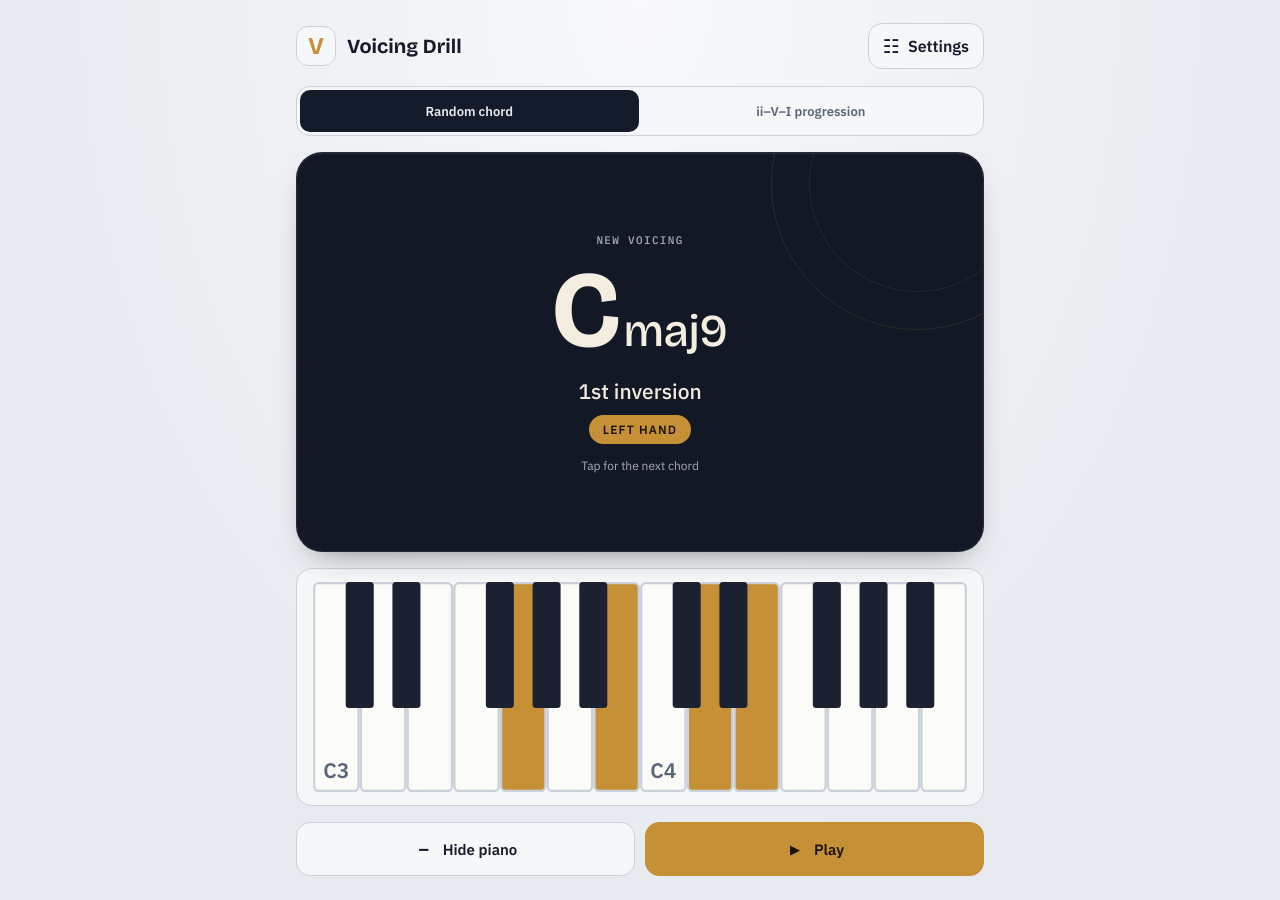
Test: PracticeScreen › defaults the dominant V chord to flat 9 flat 13 when switching to minor
Click the button "ii–V–I progression".
click(811, 111)  # box [642,90,980,132]
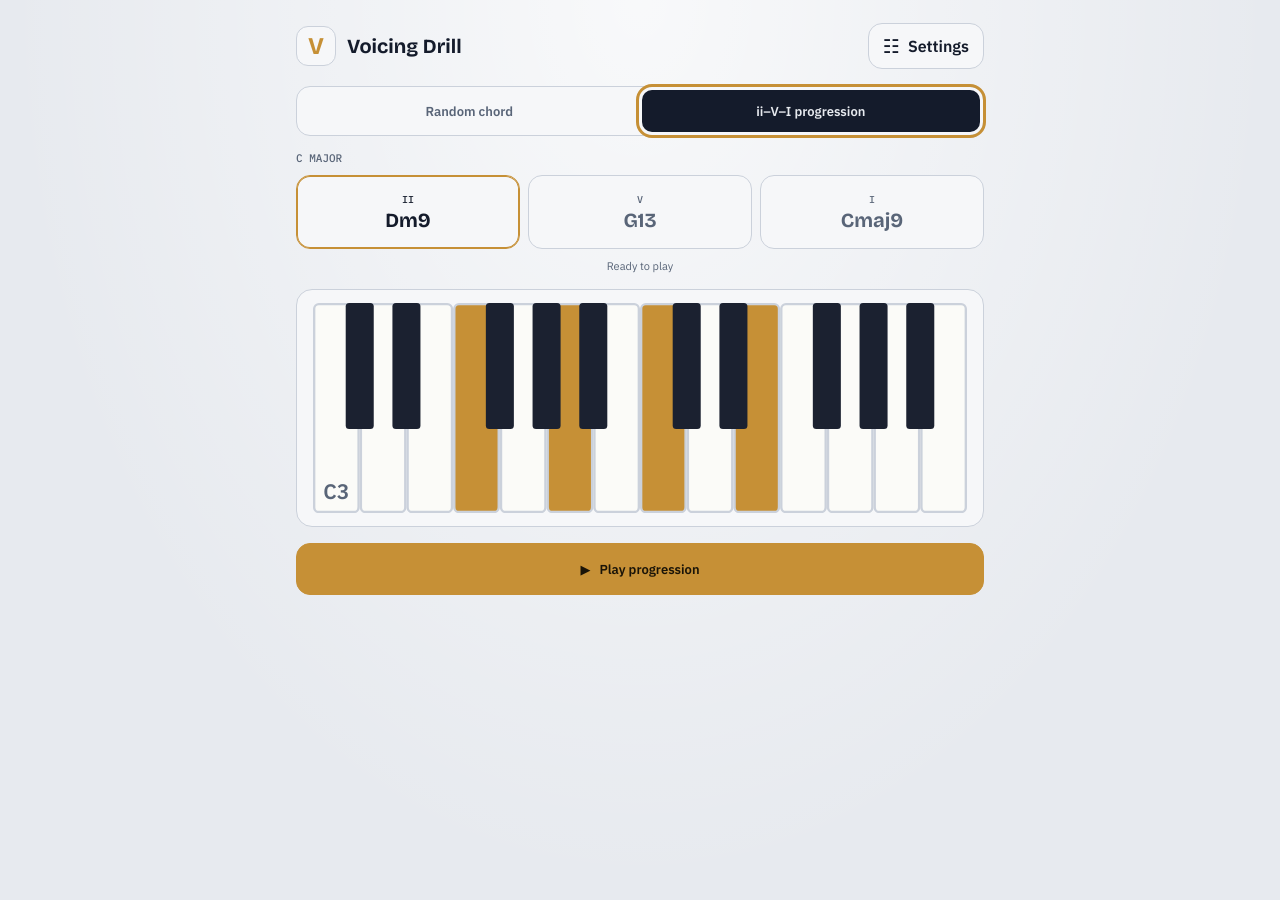
Click the button "☷ Settings".
click(926, 46)  # box [868,23,984,69]
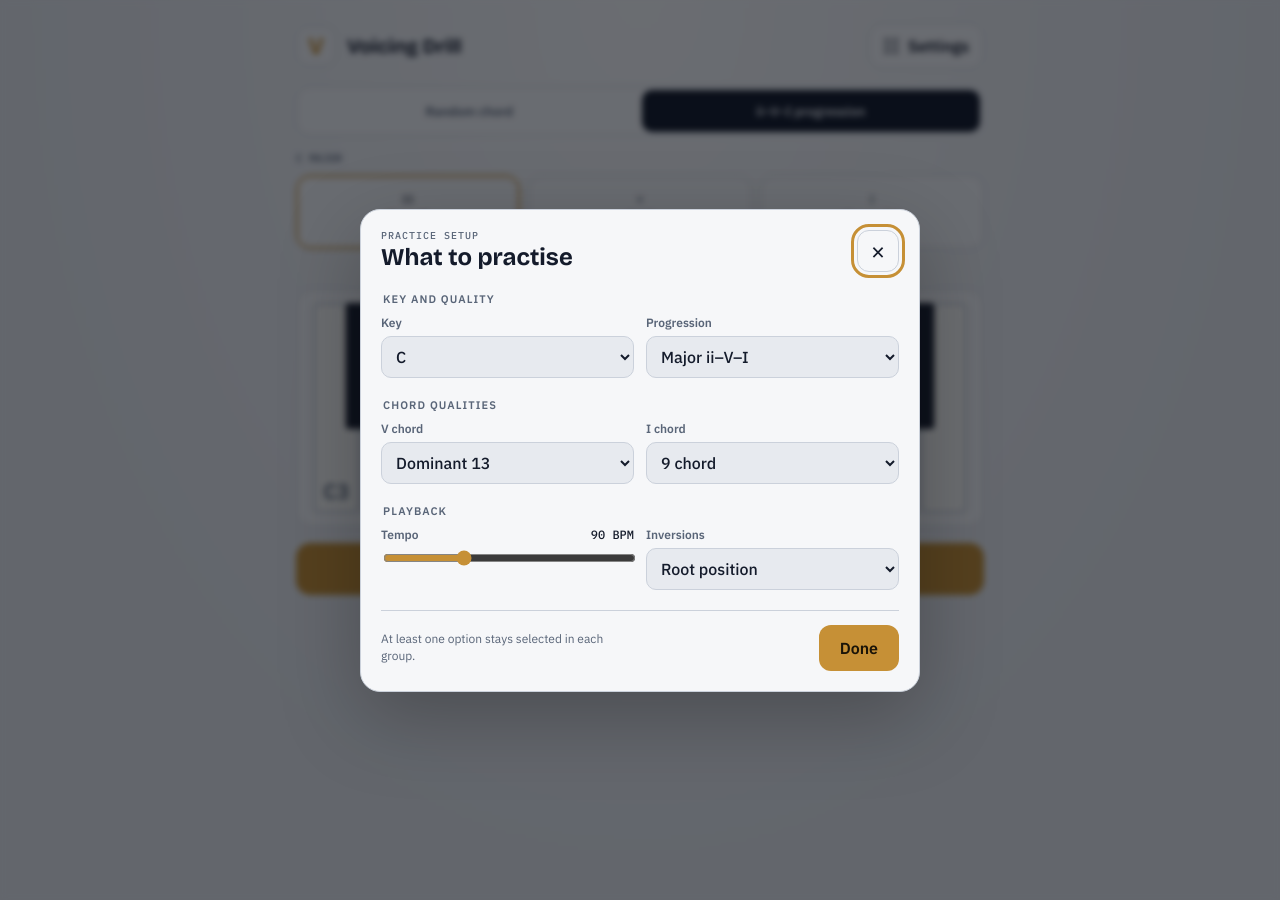
Select "Minor iiø–V–i" in the dropdown labelled "Progression" at (772, 356), box [646,336,899,378]
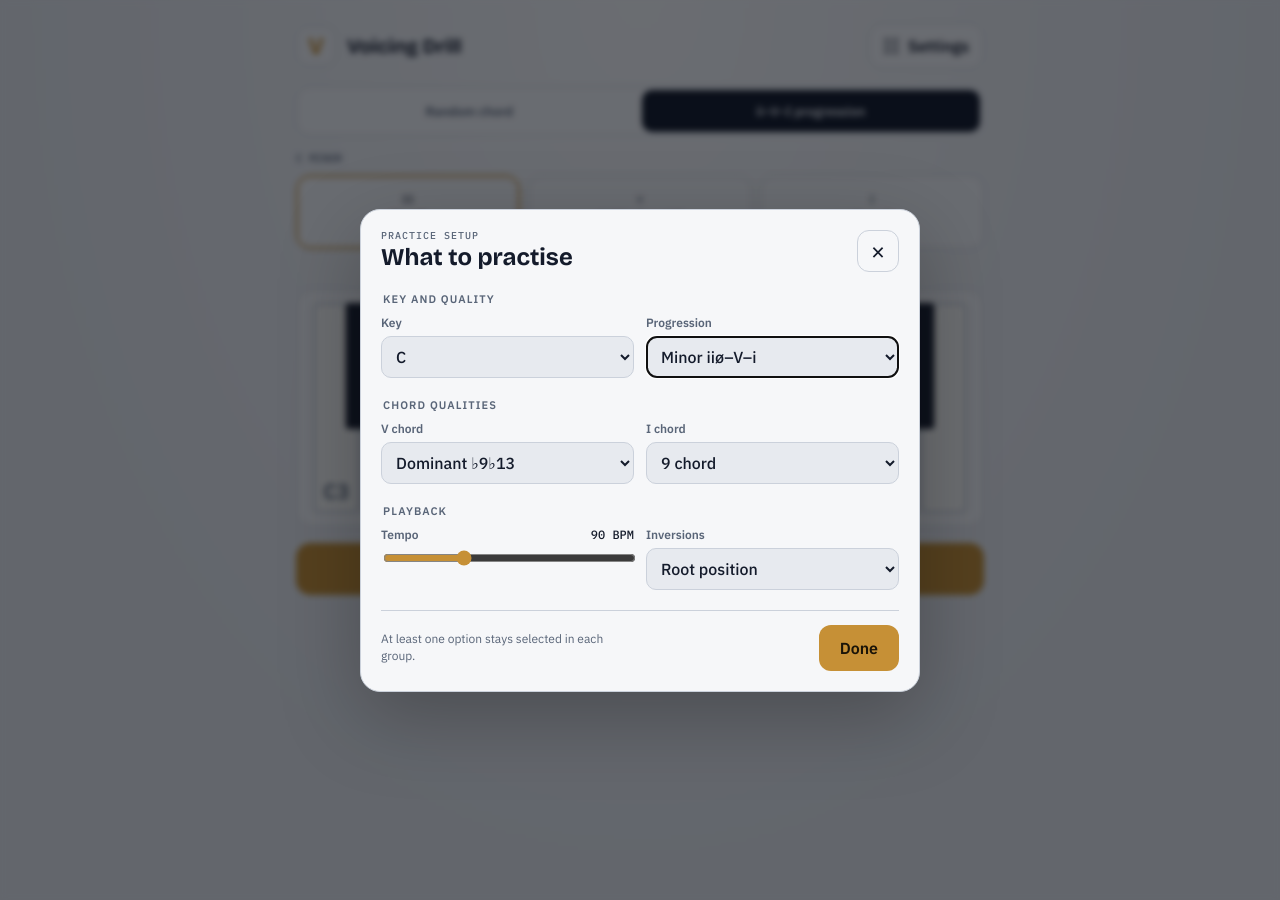
Check: the dropdown labelled "V chord" shows "Dominant ♭9♭13", box [381,442,634,484]
